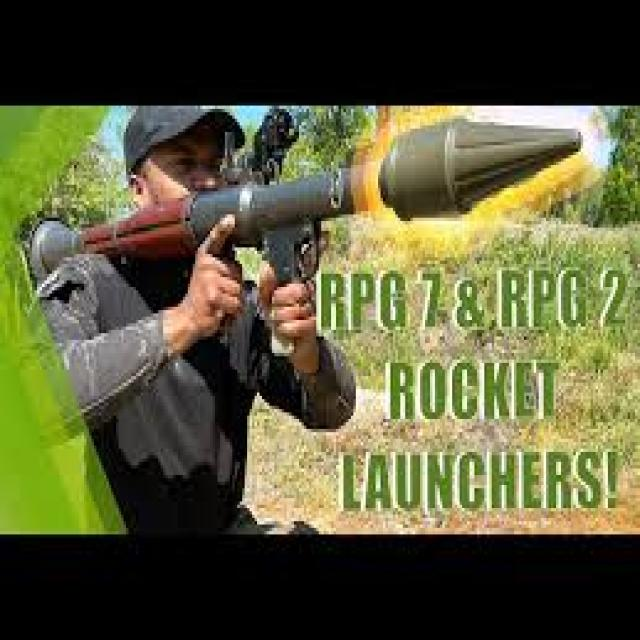Gun: (0, 94, 613, 349)
